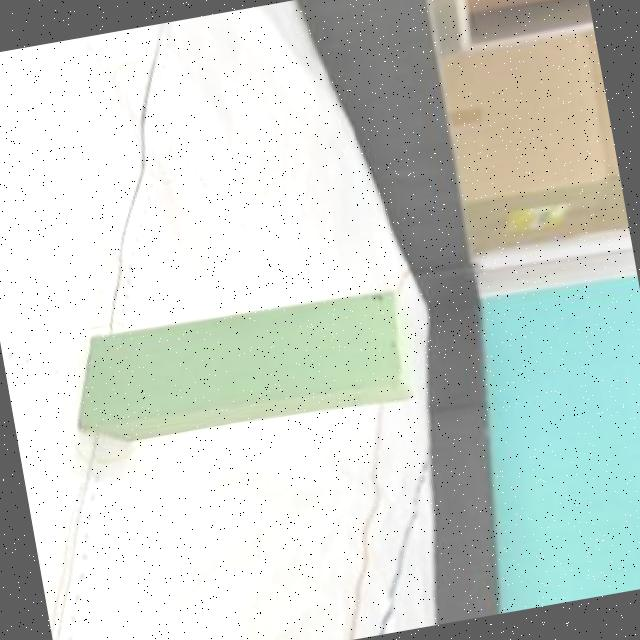greenbox: (59, 281, 422, 458)
